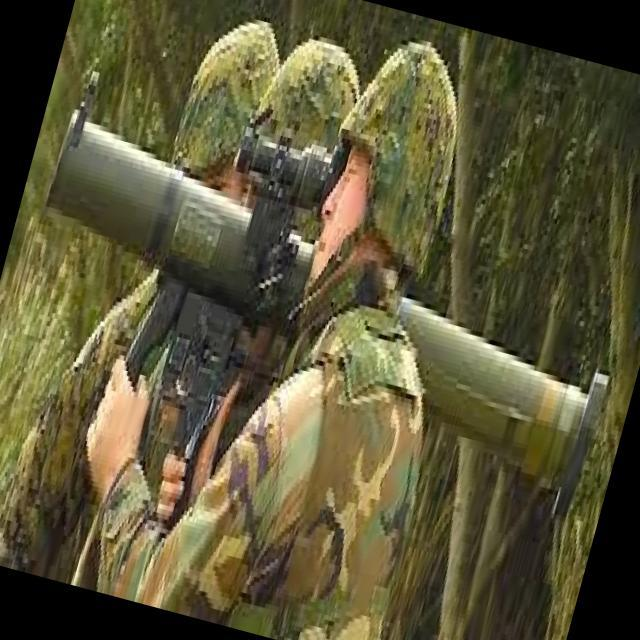rocket: (0, 81, 640, 530)
